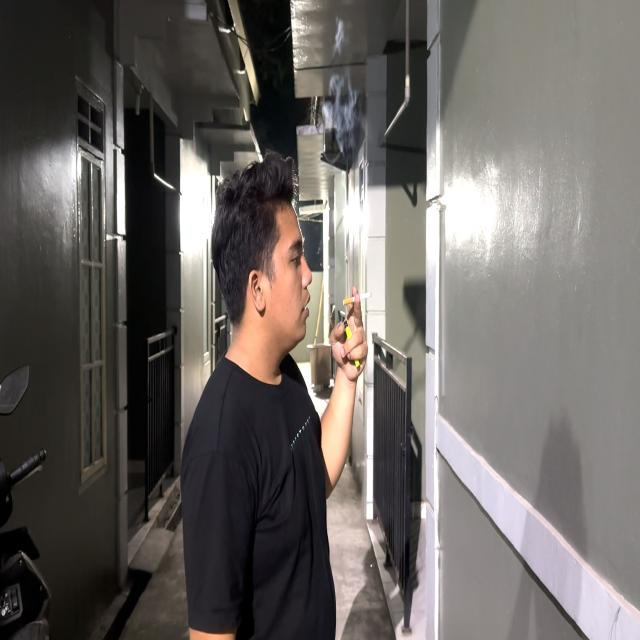cigarette: (340, 286, 376, 313)
smoking: (199, 142, 381, 500)
